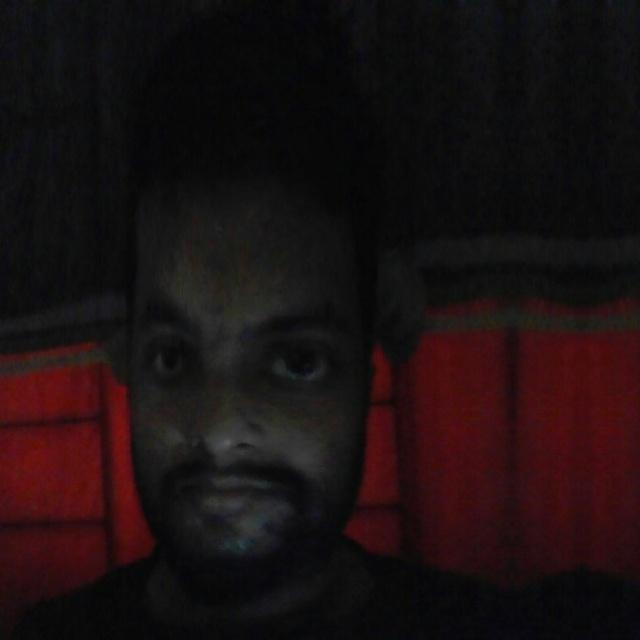Natural: (109, 183, 405, 585)
